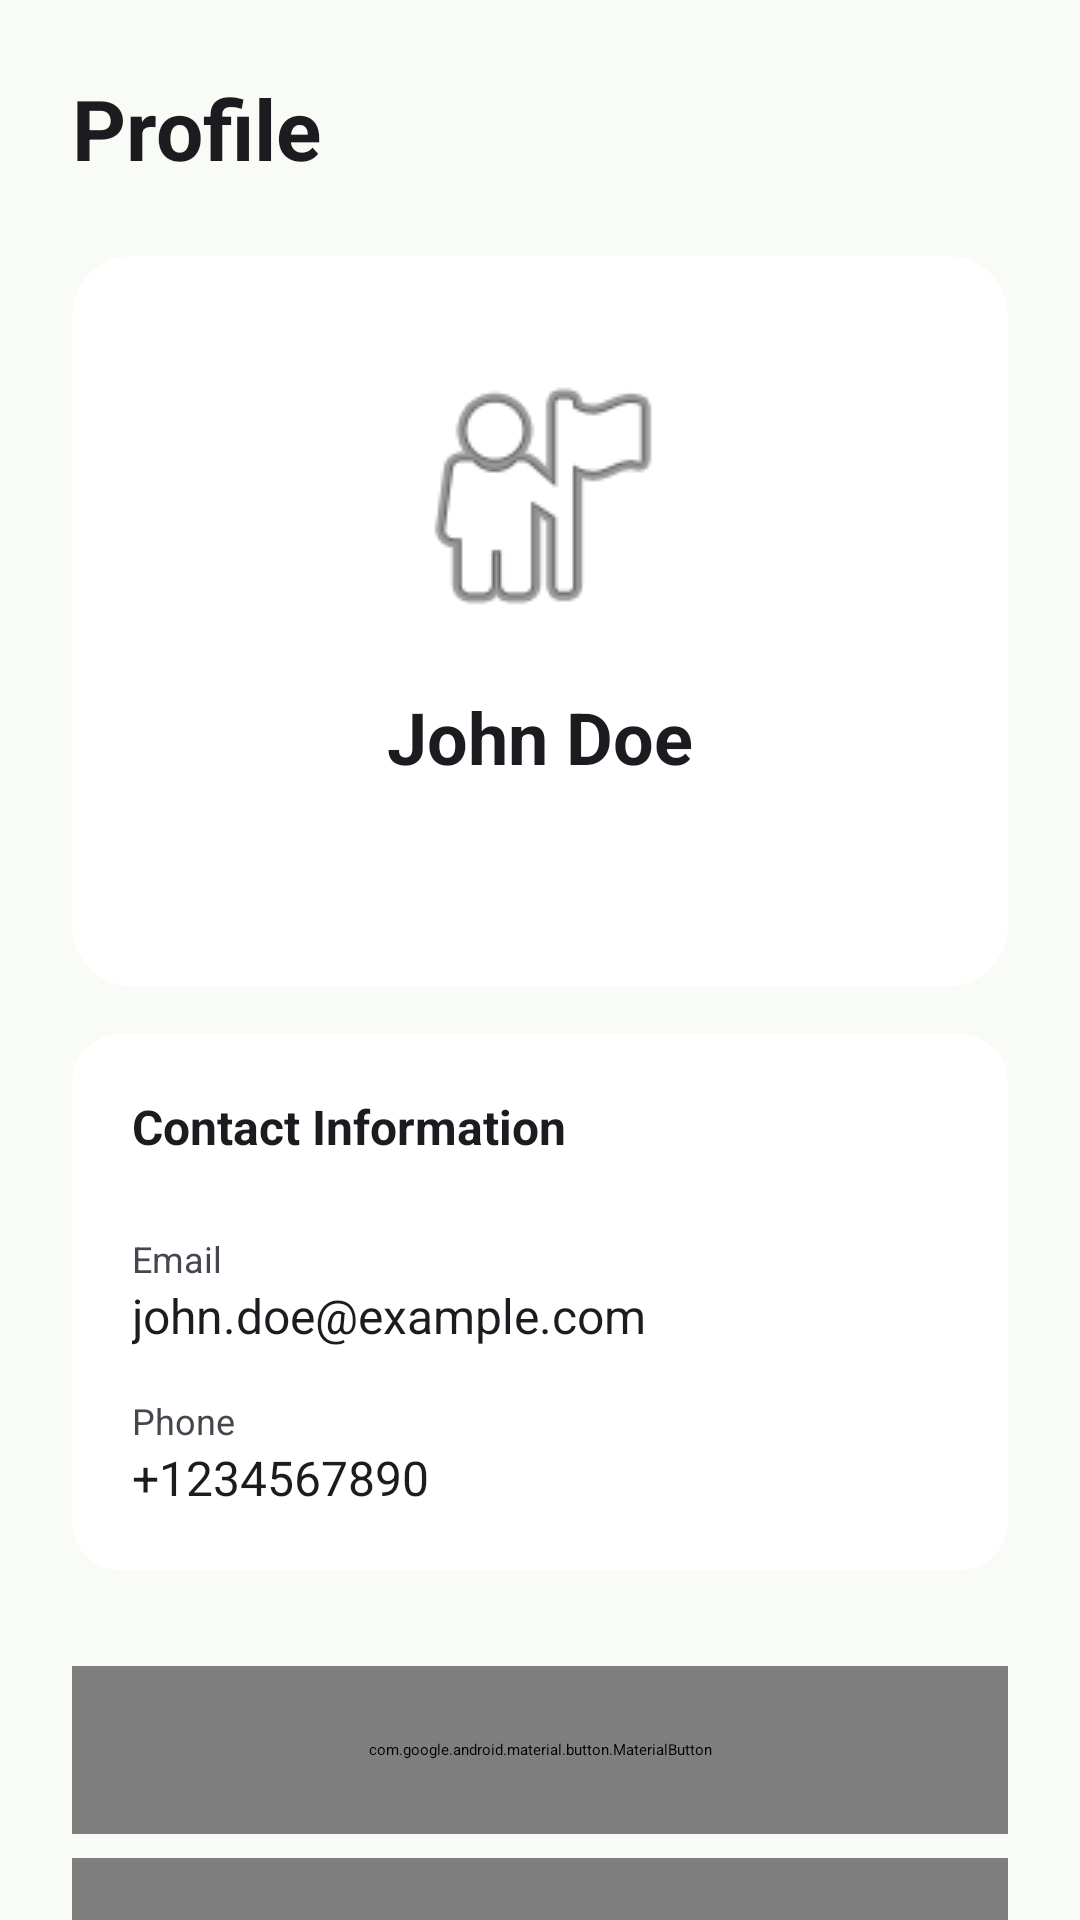

Point at icon controls on the screen. Image size 1080px x 1920px, points as (x=x, y=y).
Profile Image: (x=543, y=496)
